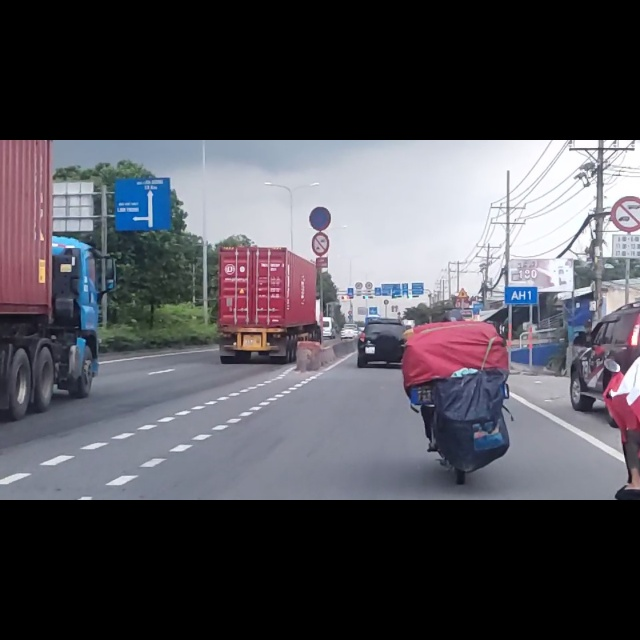bien_cam: (611, 101, 640, 164), (309, 117, 331, 160), (311, 164, 330, 204)
